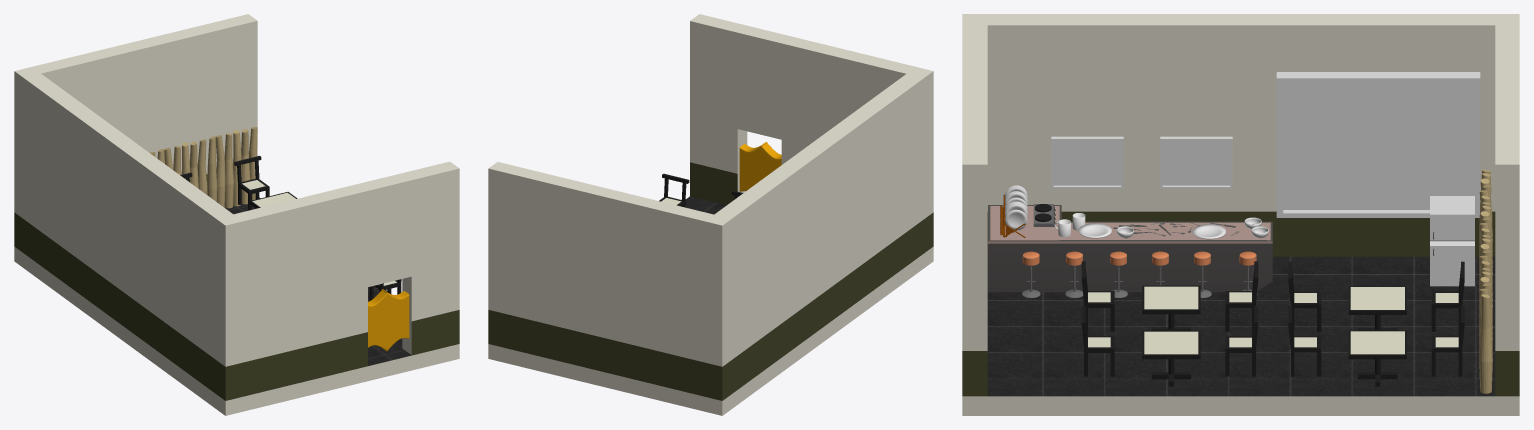
The model's file is restoFinal.fbx.
3 views of the same model, side by side, from view 1: azimuth 30°, elevation 25°; view 2: azimuth 150°, elevation 25°; view 3: azimuth 270°, elevation 25° (orthographic). The views are drawn at different scales.
Visible parts, largest first — view 1: polySurface11, pCylinder11, pCylinder10, polySurface10, polySurface9, pCube13, pCube6; view 2: polySurface11, polySurface10, polySurface9, pCube21; view 3: polySurface11, pCube23, pCube12, pCylinder15, pCube24, pCube25, pCube22, pCube6, pCube19, pCube16, pCylinder11, pCube13 (+11 smaller).
Boxes of the visible parts, left/top/right/bottom form: polySurface11: left=14, top=14, right=459, bottom=415; pCylinder11: left=207, top=127, right=257, bottom=208; pCylinder10: left=157, top=139, right=207, bottom=194; polySurface10: left=381, top=289, right=409, bottom=351; polySurface9: left=368, top=289, right=387, bottom=351; pCube13: left=234, top=155, right=269, bottom=210; pCube6: left=250, top=192, right=297, bottom=208; polySurface11: left=488, top=14, right=933, bottom=415; polySurface10: left=739, top=142, right=767, bottom=191; polySurface9: left=761, top=142, right=781, bottom=179; pCube21: left=659, top=173, right=689, bottom=207; polySurface11: left=962, top=14, right=1519, bottom=415; pCube23: left=1276, top=72, right=1480, bottom=217; pCube12: left=988, top=205, right=1272, bottom=292; pCylinder15: left=1430, top=196, right=1474, bottom=286; pCube24: left=1160, top=136, right=1232, bottom=188; pCube25: left=1051, top=136, right=1123, bottom=188; pCube22: left=1142, top=330, right=1200, bottom=386; pCube6: left=1348, top=330, right=1406, bottom=386; pCube19: left=1142, top=285, right=1200, bottom=330; pCube16: left=1348, top=286, right=1406, bottom=330; pCylinder11: left=1479, top=268, right=1492, bottom=393; pCube13: left=1431, top=306, right=1464, bottom=376.
Bounding box in the file's own units: 34.01 × 26.43 × 53.13.
14 materials, 1 textured.
